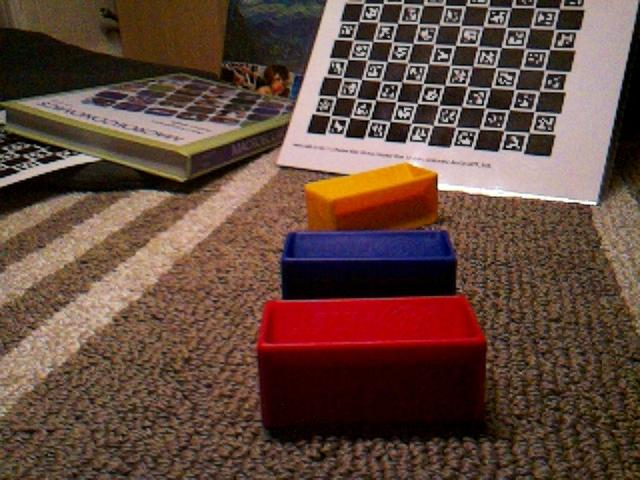blue: (279, 228, 459, 299)
red: (256, 293, 488, 435)
yellow: (304, 161, 440, 232)
